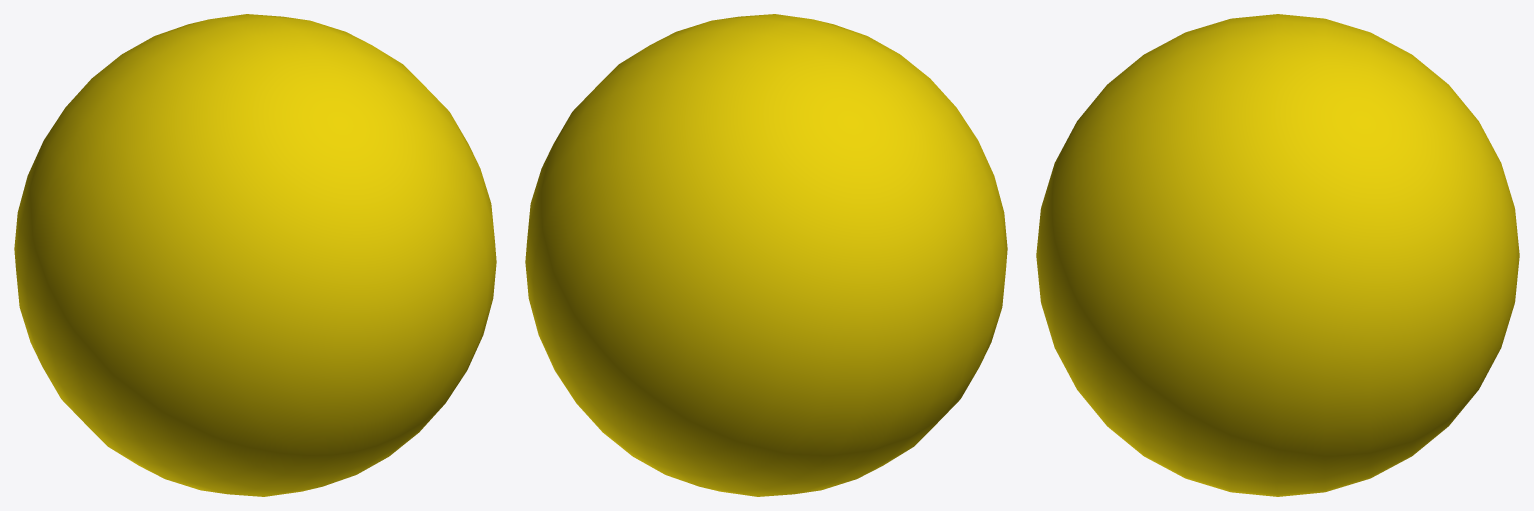
File: Bola.fbx
3 views of the same model, side by side, from view 1: azimuth 30°, elevation 25°; view 2: azimuth 150°, elevation 25°; view 3: azimuth 270°, elevation 25° (orthographic).
Parts seen in each view (by area): view 1: Bola; view 2: Bola; view 3: Bola.
Boxes of the visible parts, x1,y1,x2,y2 form: Bola: (14,14,496,496); Bola: (525,14,1007,496); Bola: (1036,14,1519,496).
Bounding box in the file's own units: 160 × 160 × 160.
